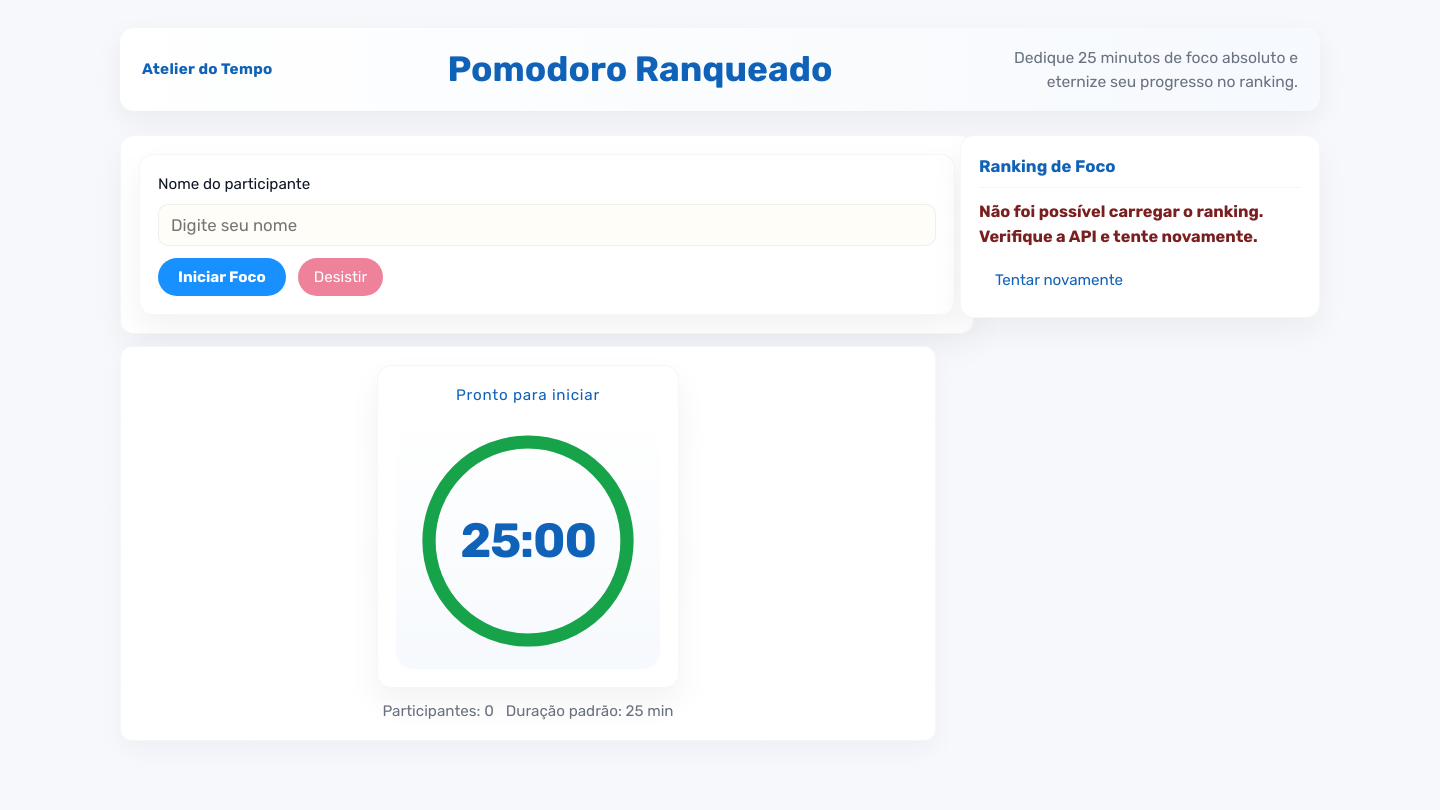
Test: carregamento do ranking › exibe erro e recarrega ao tentar novamente
Expected: the text "Não foi possível carregar o ranking. Verifique a API e tente novamente." is shown, x1=979 y1=200 x2=1301 y2=249
Click the button "Tentar novamente".
click(1059, 280)  # box x1=979 y1=261 x2=1139 y2=299
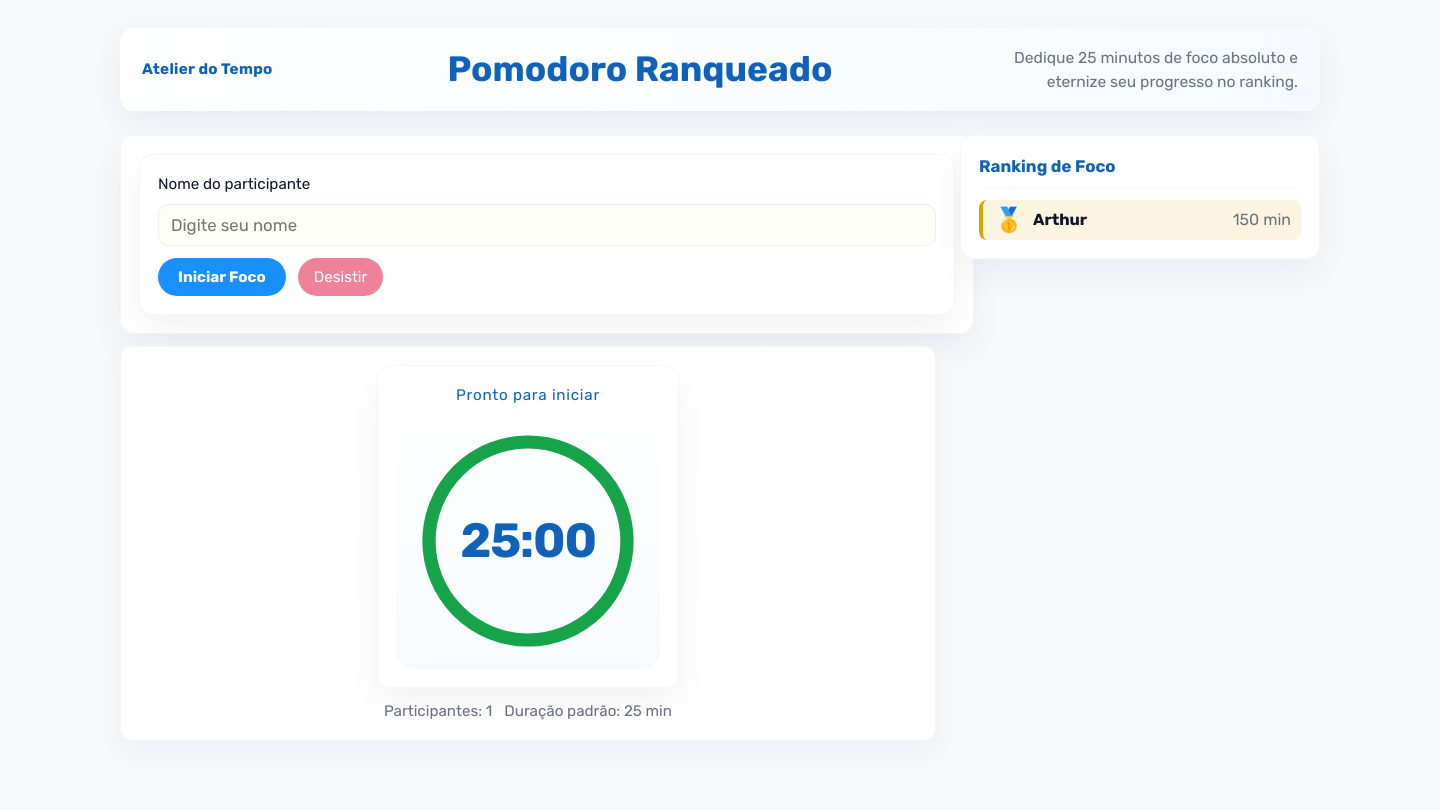
Expected: the text "Arthur" is shown, x1=1033 y1=210 x2=1087 y2=229
